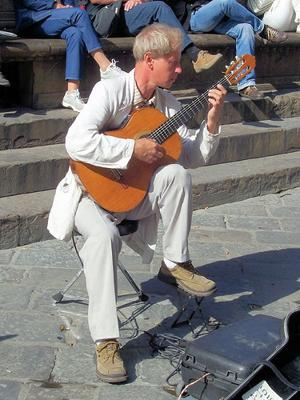person: (48, 23, 227, 385)
